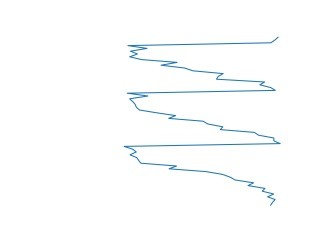distributaryMouthBar: (122, 37, 284, 206)
